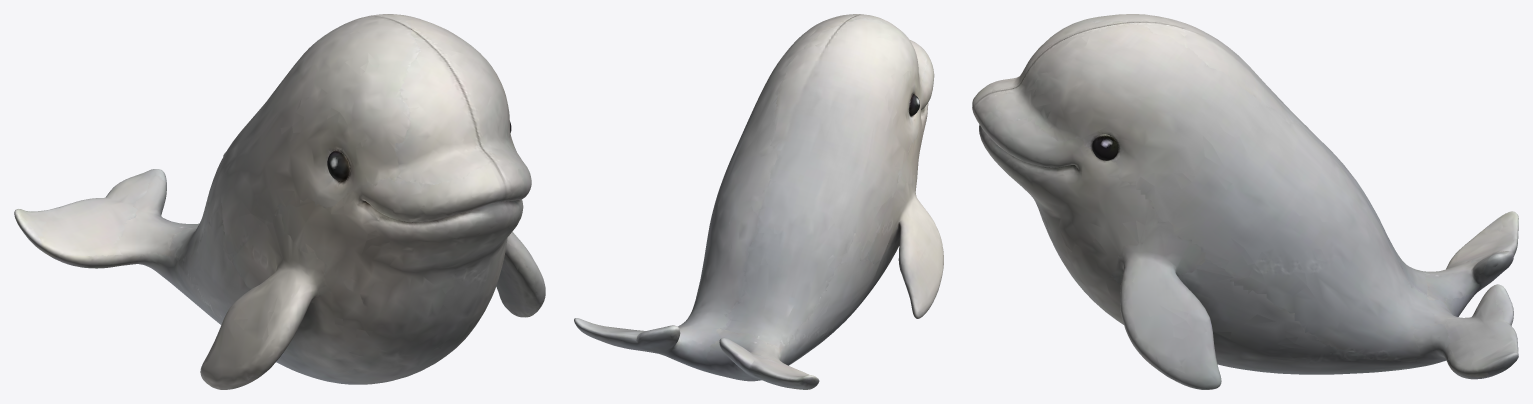
The model's file is beluga_pbr.glb.
The picture shows the model from 3 angles, left to right: view 1: azimuth 30°, elevation 25°; view 2: azimuth 150°, elevation 25°; view 3: azimuth 270°, elevation 25°; orthographic projection. The views are drawn at different scales.
Visible parts, largest first — view 1: model.001; view 2: model.001; view 3: model.001.
Boxes of the visible parts, <box> form: model.001: <box>14,14,545,389</box>; model.001: <box>574,14,943,389</box>; model.001: <box>972,14,1518,389</box>.
Size of the model in its own units: 1.15 by 1.28 by 1.83.
1 material, 1 textured.
